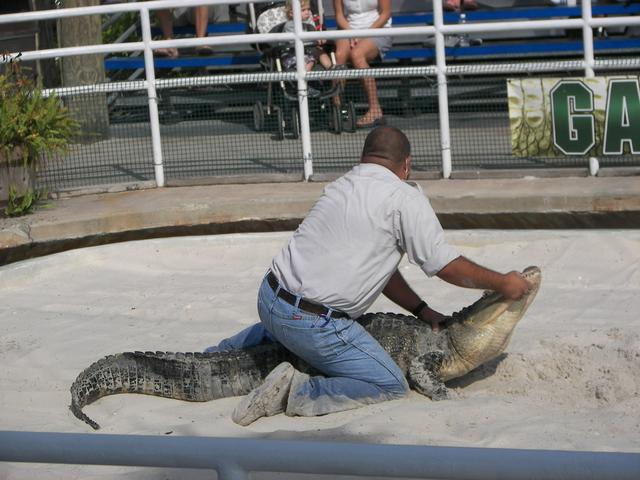crocodile: (115, 255, 562, 437)
